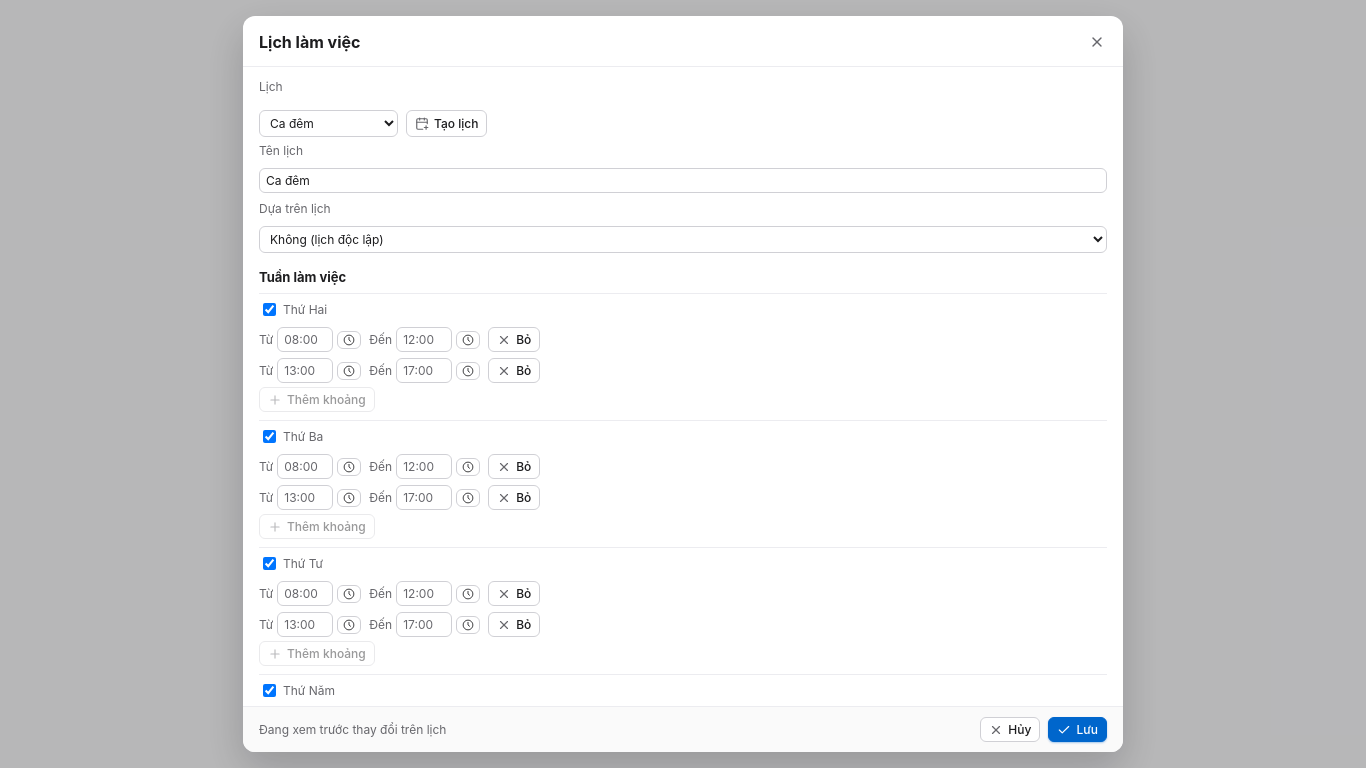
Test: WorkingTimeDialog › opens on the calendar asked for, marks the project calendar and switches
expect the field named "Tên lịch" holds "Ca đêm": met, box top-left (259, 168), bottom-right (1107, 193)
Select "Chuẩn (lịch dự án)" in the dropdown labelled "Lịch" at (328, 124), box top-left (259, 110), bottom-right (398, 137)
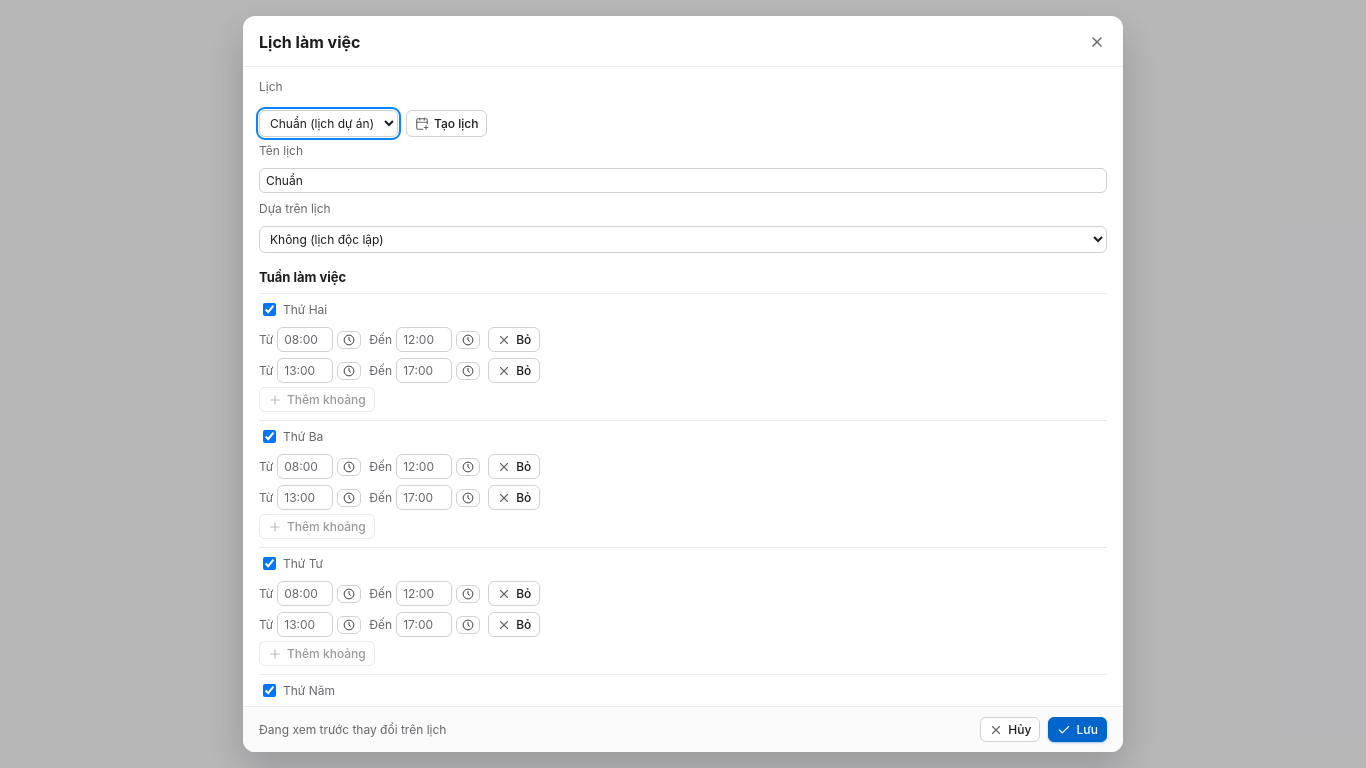
expect the field named "Tên lịch" holds "Chuẩn": met, box top-left (259, 168), bottom-right (1107, 193)
